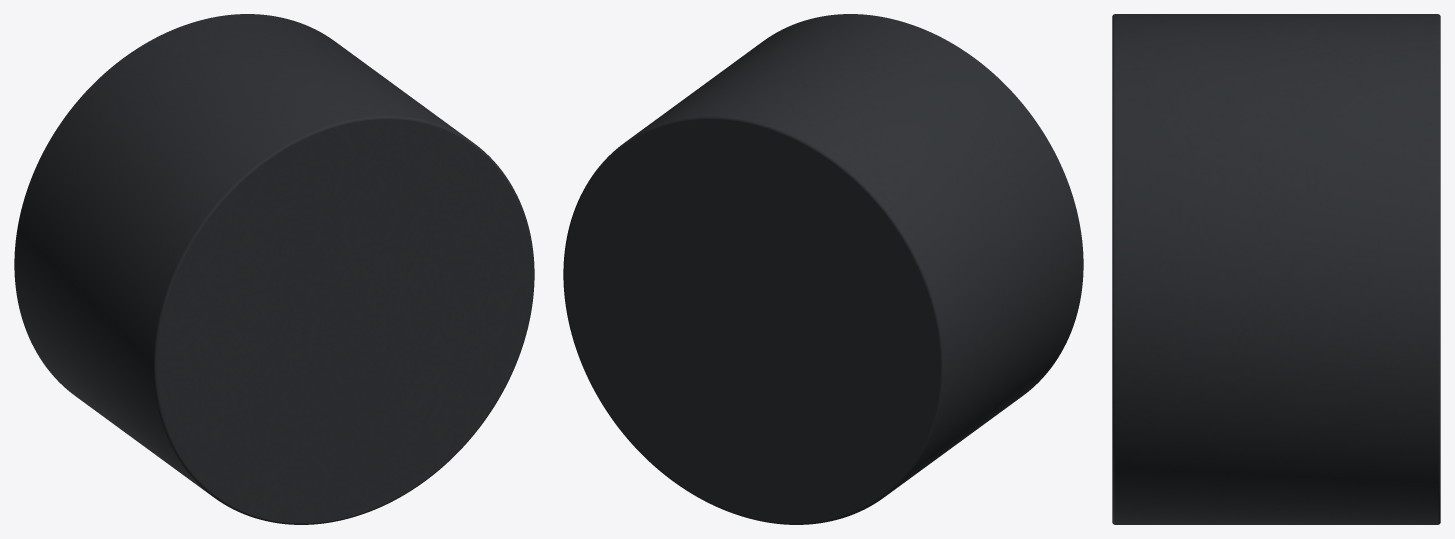
File: lidar_mount_servo_black.obj
The picture shows the model from 3 angles, left to right: view 1: azimuth 30°, elevation 25°; view 2: azimuth 150°, elevation 25°; view 3: azimuth 270°, elevation 25°; orthographic projection. The views are drawn at different scales.
Visible parts, largest first — view 1: lidar_mount__lidar_head; view 2: lidar_mount__lidar_head; view 3: lidar_mount__lidar_head.
Part boxes in pixels (box(x1,y1,x2,y2)): lidar_mount__lidar_head: box(14, 14, 534, 524); lidar_mount__lidar_head: box(563, 14, 1083, 524); lidar_mount__lidar_head: box(1112, 14, 1440, 524).
Size of the model in its own units: 0.07 by 0.07 by 0.045.
Materials: 1 (1 with a texture image).
